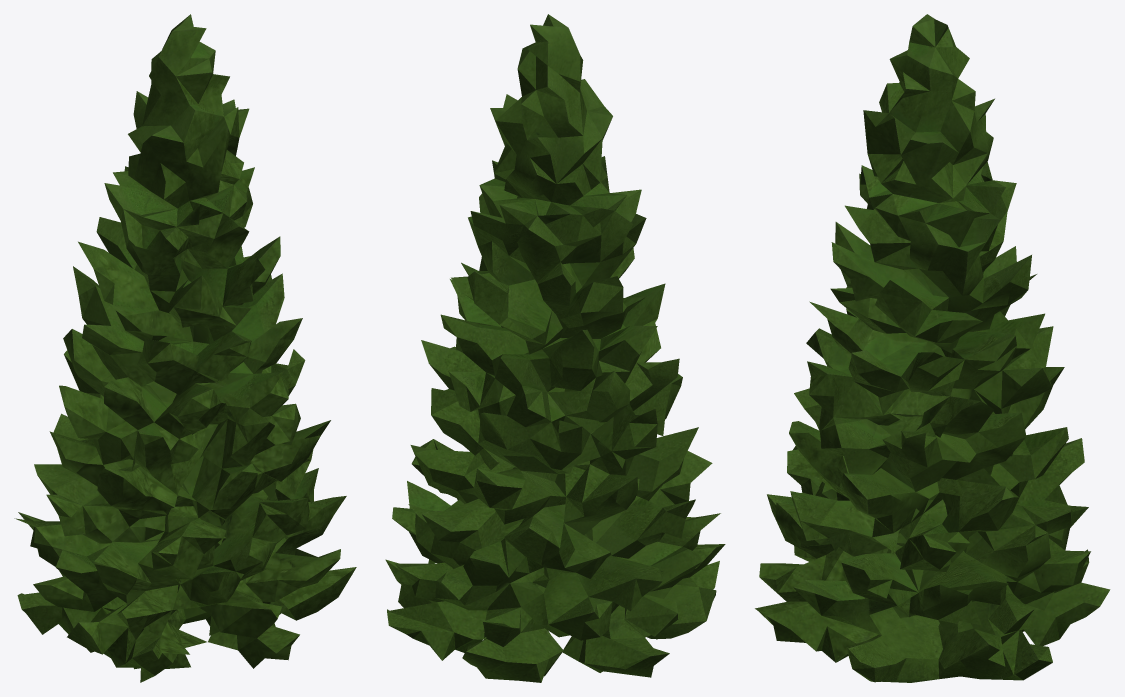
The model's file is tree_spruce.glb.
3 views of the same model, side by side, from view 1: azimuth 30°, elevation 25°; view 2: azimuth 150°, elevation 25°; view 3: azimuth 270°, elevation 25° (orthographic). The views are drawn at different scales.
Size of the model in its own units: 0.8065 by 1.7 by 0.8646.
1 material, 1 textured.
